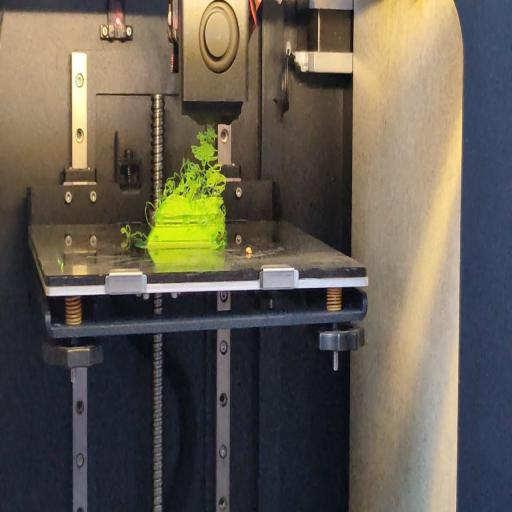spaghetti: (165, 120, 223, 197), (119, 224, 149, 238), (144, 199, 156, 231), (216, 234, 227, 252)
